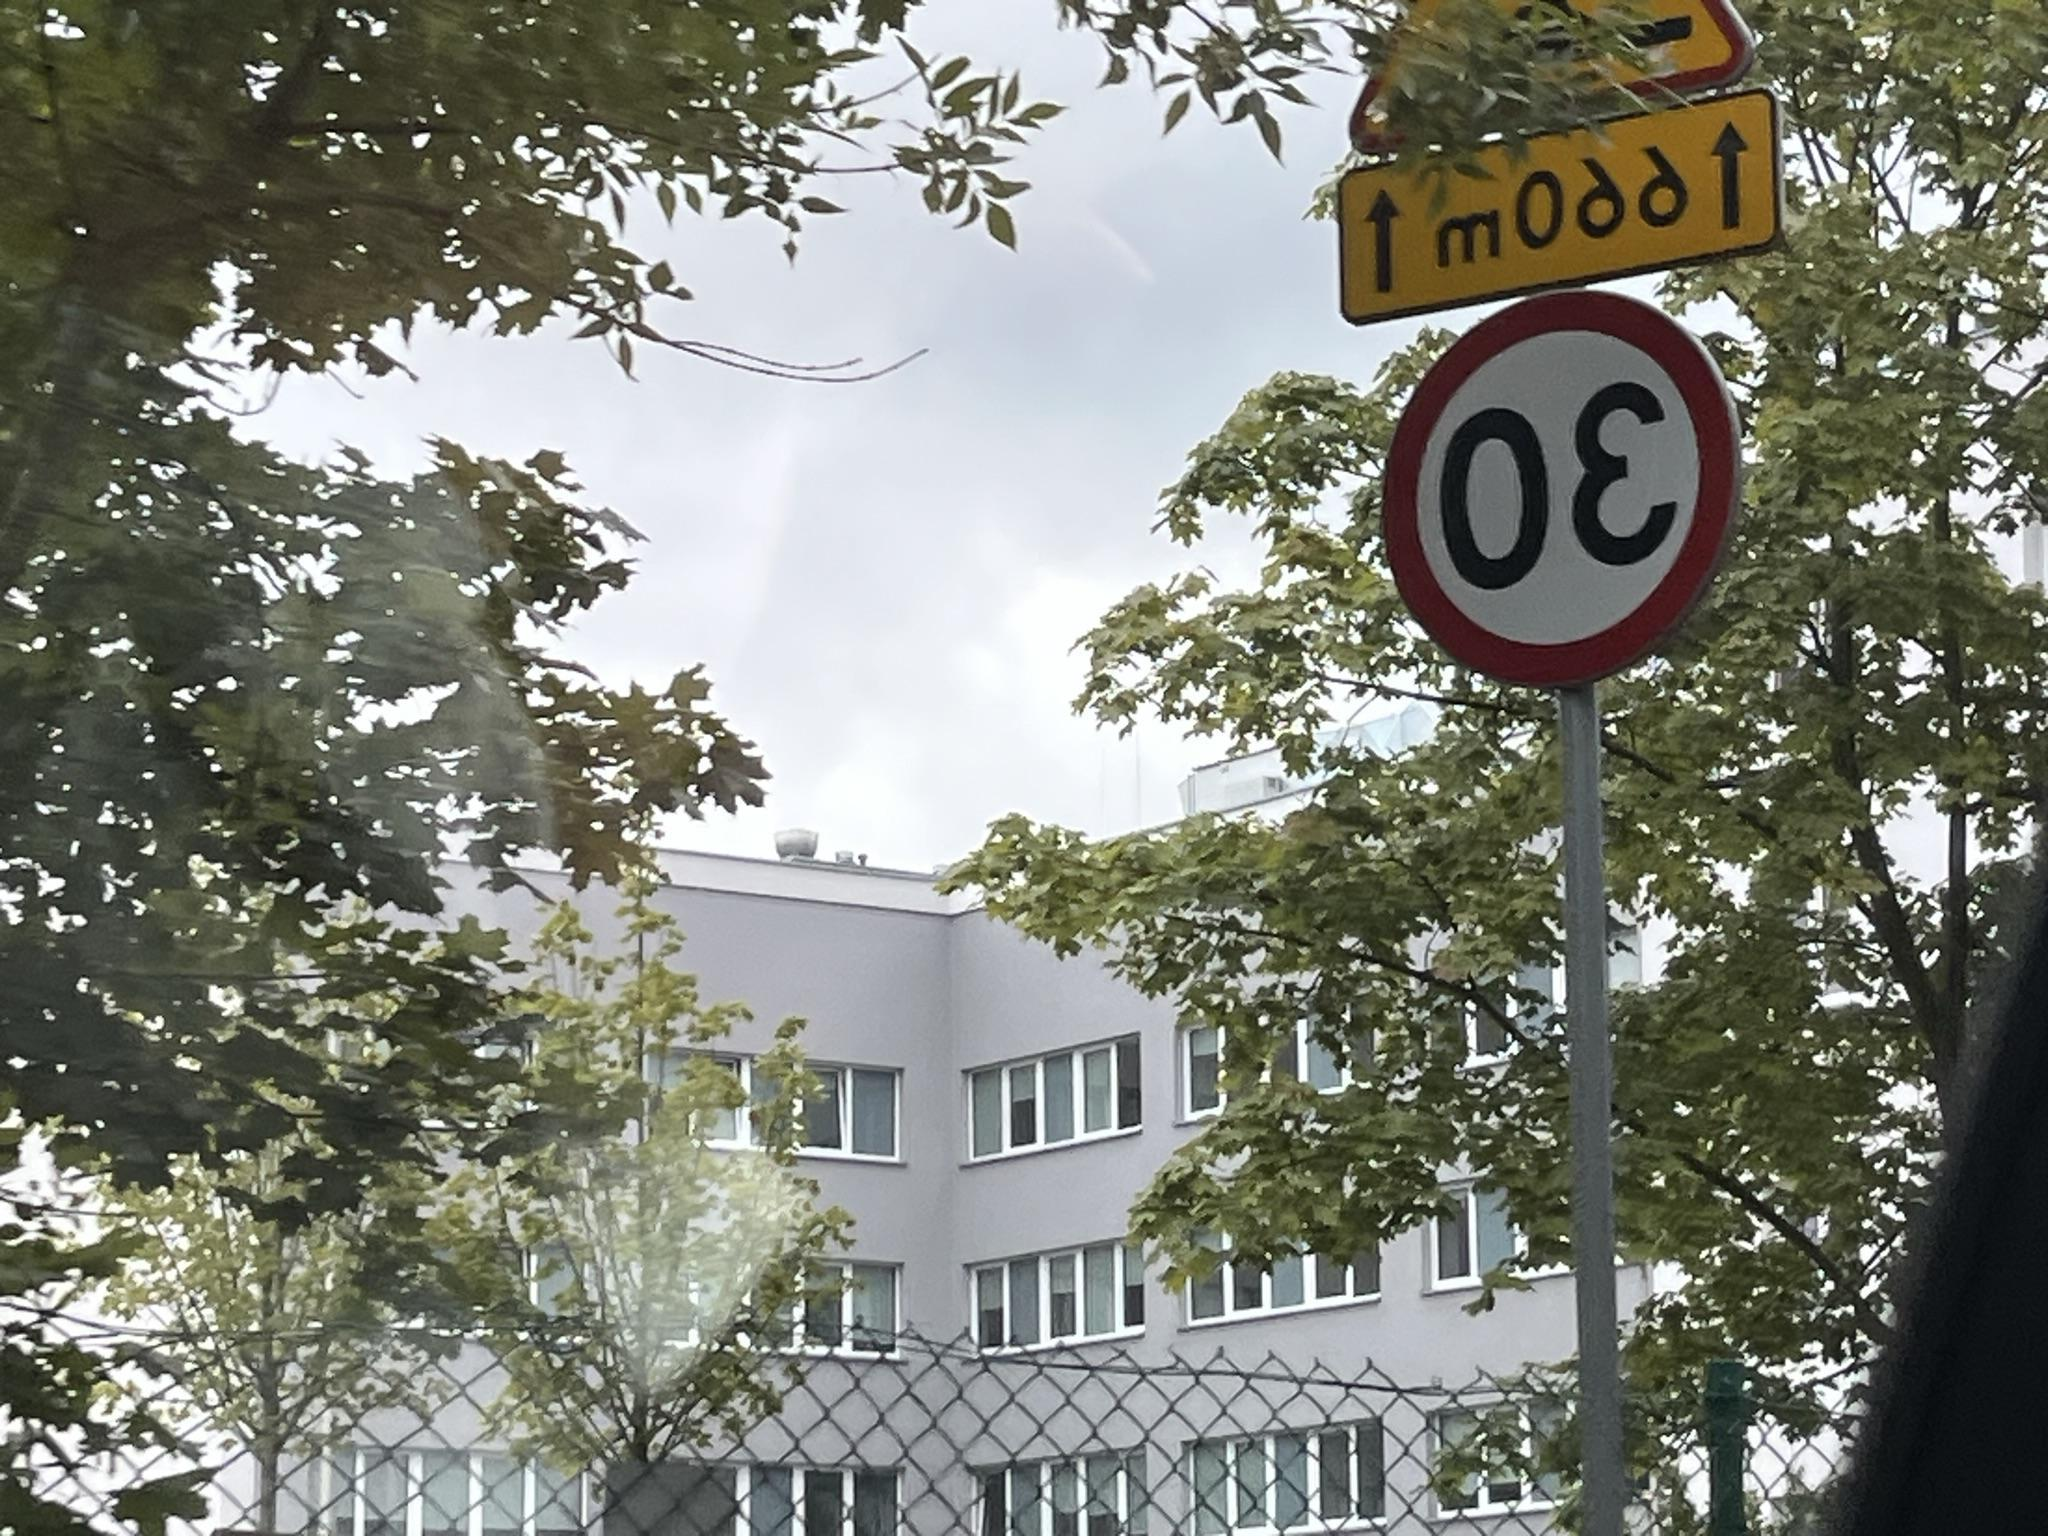other: (1335, 90, 1780, 326)
prohibitory: (1379, 287, 1738, 684)
warning: (1347, 0, 1758, 153)
